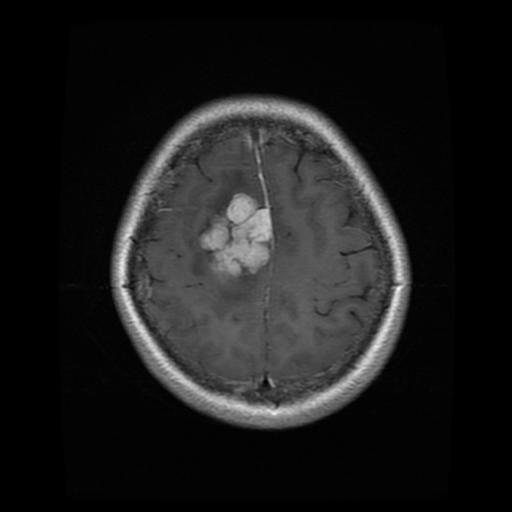Menigiomia_tumour: (199, 191, 273, 277)
